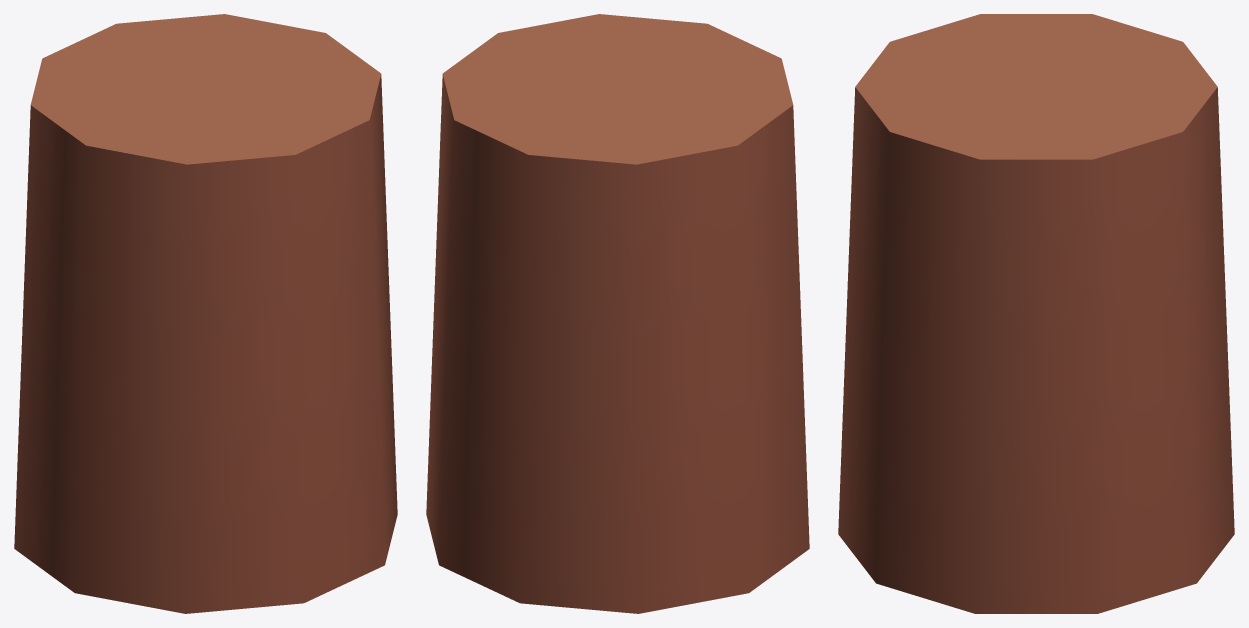
File: tree_single_B_cut.glb
3 renders of one model, left to right at view 1: azimuth 30°, elevation 25°; view 2: azimuth 150°, elevation 25°; view 3: azimuth 270°, elevation 25°, orthographic.
Visible parts, largest first — view 1: tree_single_B_cut; view 2: tree_single_B_cut; view 3: tree_single_B_cut.
Boxes of the visible parts, box(x1,y1,x2,y2) form: tree_single_B_cut: box(14, 14, 397, 613); tree_single_B_cut: box(426, 14, 809, 613); tree_single_B_cut: box(838, 14, 1234, 613).
Bounding box in the file's own units: 0.1807 × 0.2366 × 0.19.
1 material, 1 textured.
